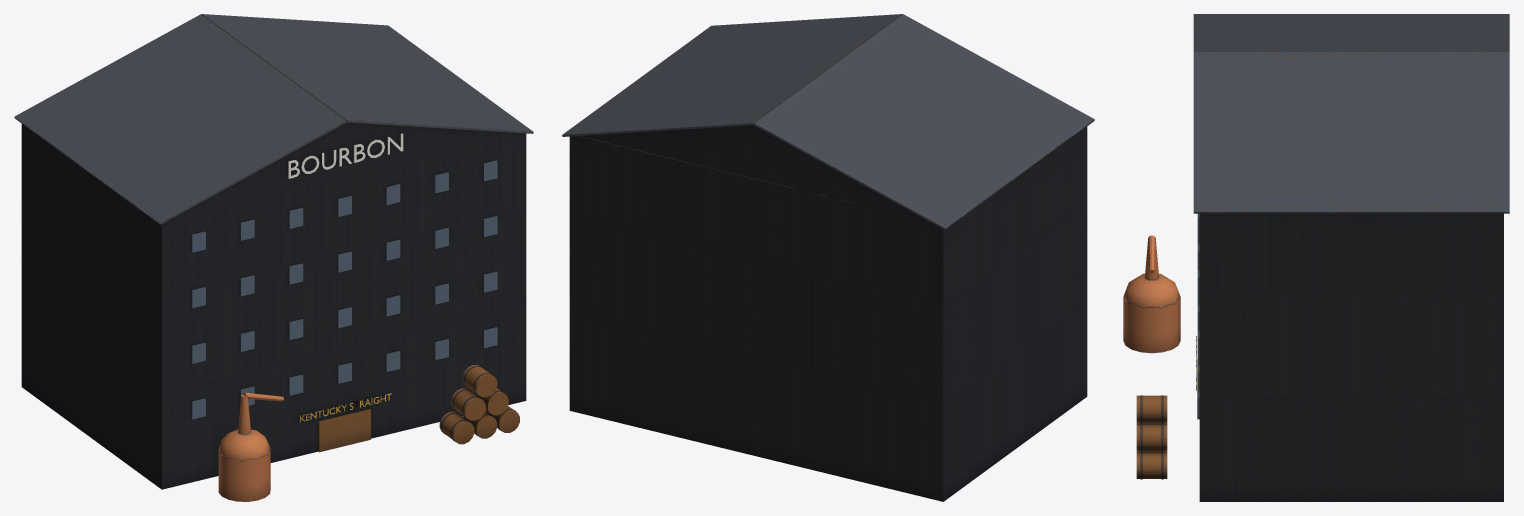
Rendered from destileria.glb.
3 views of the same model, side by side, from view 1: azimuth 30°, elevation 25°; view 2: azimuth 150°, elevation 25°; view 3: azimuth 270°, elevation 25° (orthographic). The views are drawn at different scales.
Parts seen in each view (by area): view 1: destileria; view 2: destileria; view 3: destileria.
Boxes of the visible parts, bbox=[...] form: destileria: bbox=[14, 14, 533, 501]; destileria: bbox=[562, 14, 1094, 501]; destileria: bbox=[1123, 14, 1509, 501].
Bounding box in the file's own units: 24.63 × 20.58 × 20.3.
1 material, 1 textured.
